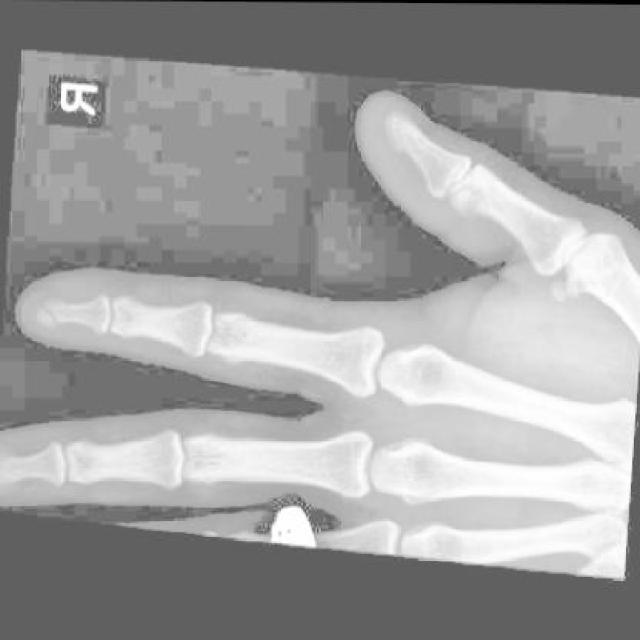Fracture: (29, 291, 66, 328)
